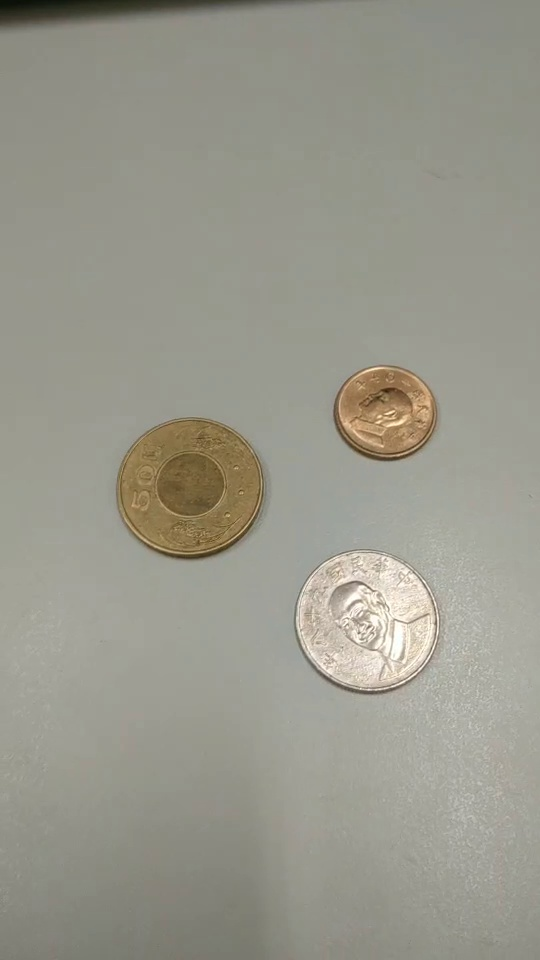NT$ 1: (332, 366, 437, 463)
NT$ 10: (293, 548, 440, 693)
NT$ 50: (114, 417, 265, 560)
